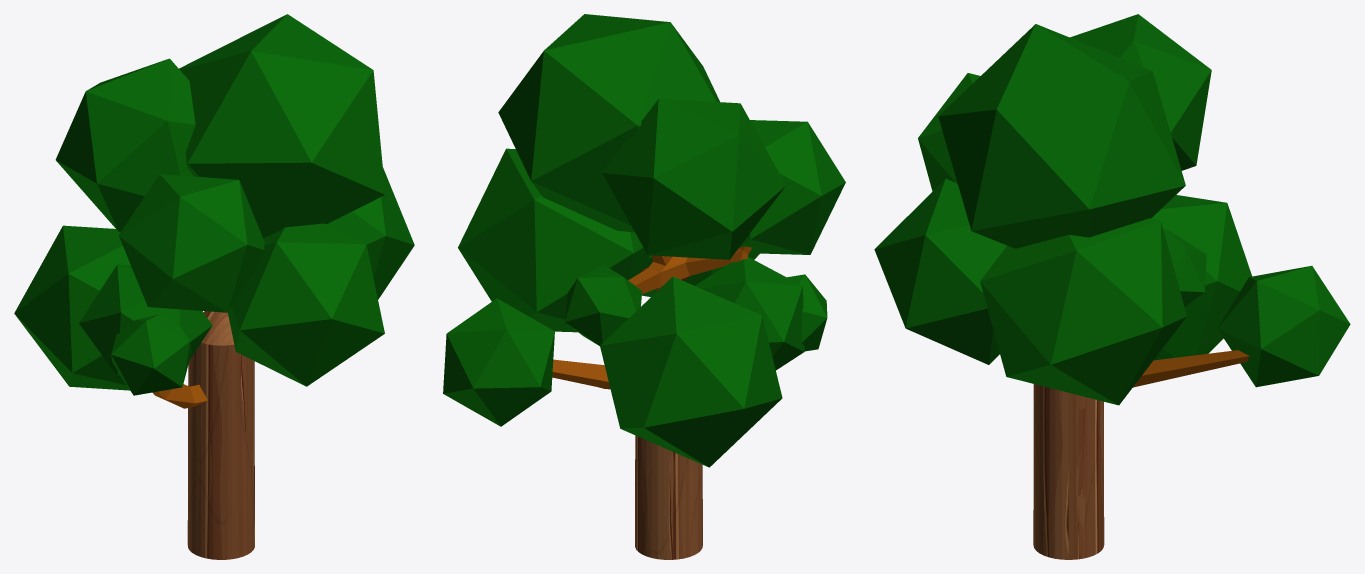
File: Tree 2.fbx
The picture shows the model from 3 angles, left to right: view 1: azimuth 30°, elevation 25°; view 2: azimuth 150°, elevation 25°; view 3: azimuth 270°, elevation 25°; orthographic projection. The views are drawn at different scales.
Visible parts, largest first — view 1: Leaf 2, Leaf 3, Leaf 6, Leaf 1, Base, Leaf 8, Leaf 7, Leaf 9, Leaf 4, Root 2; view 2: Leaf 2, Leaf 8, Leaf 1, Leaf 4, Leaf 10, Leaf 6, Base, Leaf 9, Leaf 5, Root 1, Leaf 7, Root 3; view 3: Leaf 2, Leaf 4, Leaf 3, Base, Leaf 10, Leaf 8, Leaf 1, Leaf 6, Root 3, Leaf 5.
Part boxes in pixels (x1,y1,x2,y2): Leaf 2: [179, 14, 385, 238]; Leaf 3: [227, 223, 384, 386]; Leaf 6: [118, 174, 264, 312]; Leaf 1: [55, 58, 195, 231]; Base: [187, 311, 254, 559]; Leaf 8: [14, 225, 202, 390]; Leaf 7: [111, 314, 191, 395]; Leaf 9: [79, 264, 212, 376]; Leaf 4: [326, 168, 414, 299]; Root 2: [152, 384, 207, 408]; Leaf 2: [498, 14, 719, 232]; Leaf 8: [600, 276, 782, 467]; Leaf 1: [602, 98, 786, 259]; Leaf 4: [458, 148, 649, 332]; Leaf 10: [443, 298, 554, 426]; Leaf 6: [738, 120, 845, 254]; Base: [635, 435, 702, 559]; Leaf 9: [695, 257, 804, 370]; Leaf 5: [565, 265, 642, 345]; Root 1: [628, 246, 751, 294]; Leaf 7: [787, 274, 827, 351]; Root 3: [552, 359, 610, 389]; Leaf 2: [938, 24, 1185, 248]; Leaf 4: [980, 218, 1186, 405]; Leaf 3: [874, 178, 1006, 364]; Base: [1033, 384, 1104, 559]; Leaf 10: [1217, 265, 1350, 387]; Leaf 8: [1152, 195, 1252, 360]; Leaf 1: [1070, 14, 1211, 170]; Leaf 6: [918, 73, 980, 191]; Root 3: [1133, 350, 1249, 387]; Leaf 5: [1163, 229, 1206, 306].
Size of the model in its own units: 1056 by 1558 by 1272.
